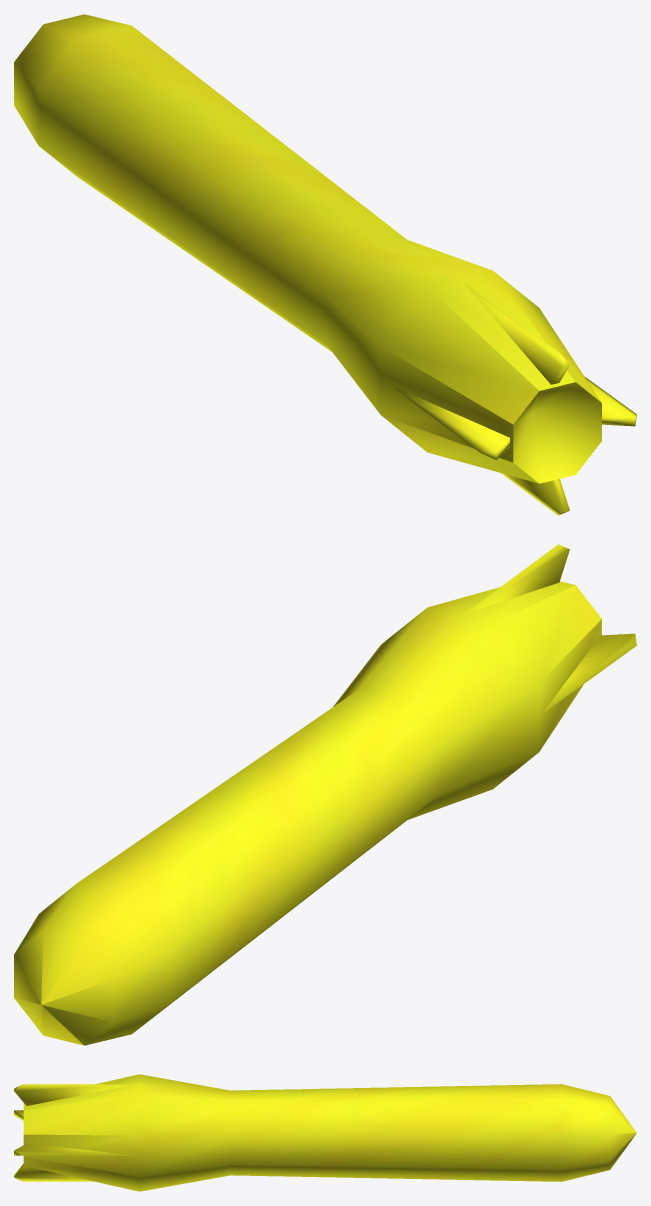
Rendered from Fleet_KM100.FBX.
3 views of the same model, one above another, from view 1: azimuth 30°, elevation 25°; view 2: azimuth 150°, elevation 25°; view 3: azimuth 270°, elevation 25° (orthographic). The views are drawn at different scales.
Visible parts, largest first — view 1: rocket; view 2: rocket; view 3: rocket.
Boxes of the visible parts, <box> form: rocket: <box>14,14,636,515</box>; rocket: <box>14,544,636,1045</box>; rocket: <box>14,1074,636,1191</box>.
Size of the model in its own units: 3.43 by 3.43 by 19.69.
1 material, 1 textured.
